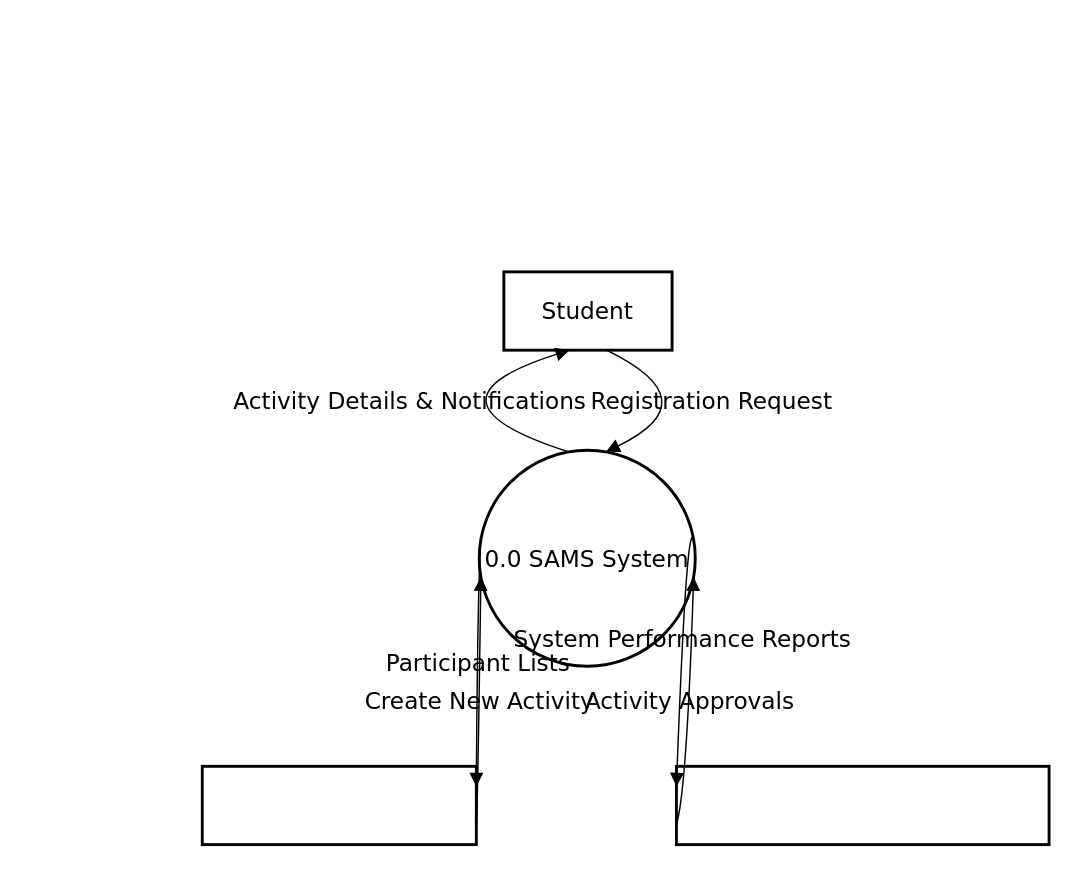
The diagram is 1074 pixels wide and 870 high, and some of its shapes have lost their labels. Here are the shapes that lost their labels. From the top down, the centre of each, then its label:
At [338,804]: "Activity Organizer".
At [862,804]: "Student Affairs Department".
